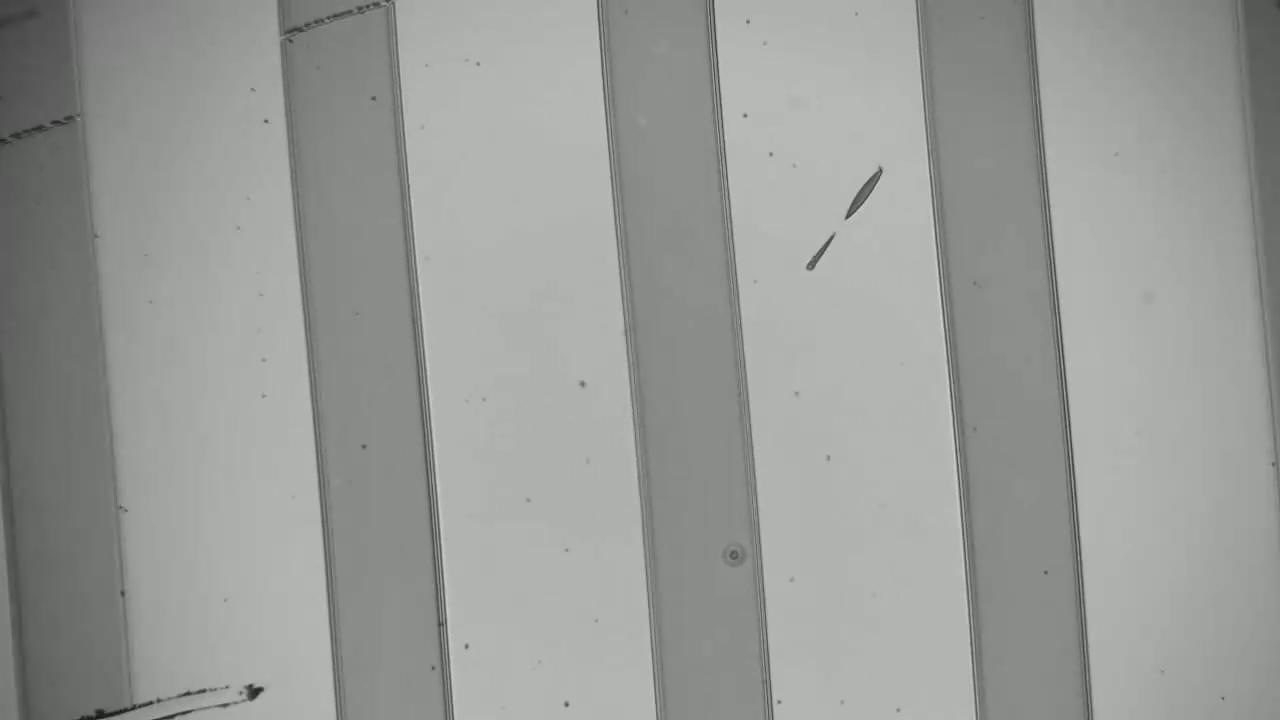scratch: (283, 1, 399, 34), (3, 112, 79, 143)
